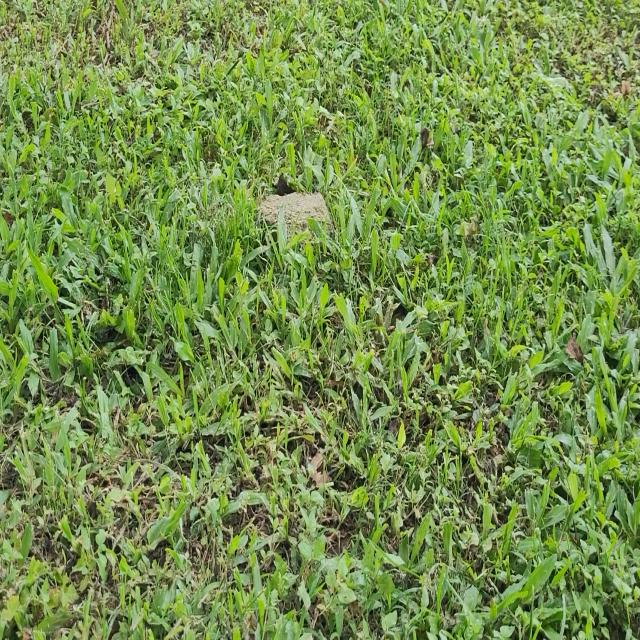grass: (0, 0, 640, 639)
stone: (259, 175, 328, 232)
